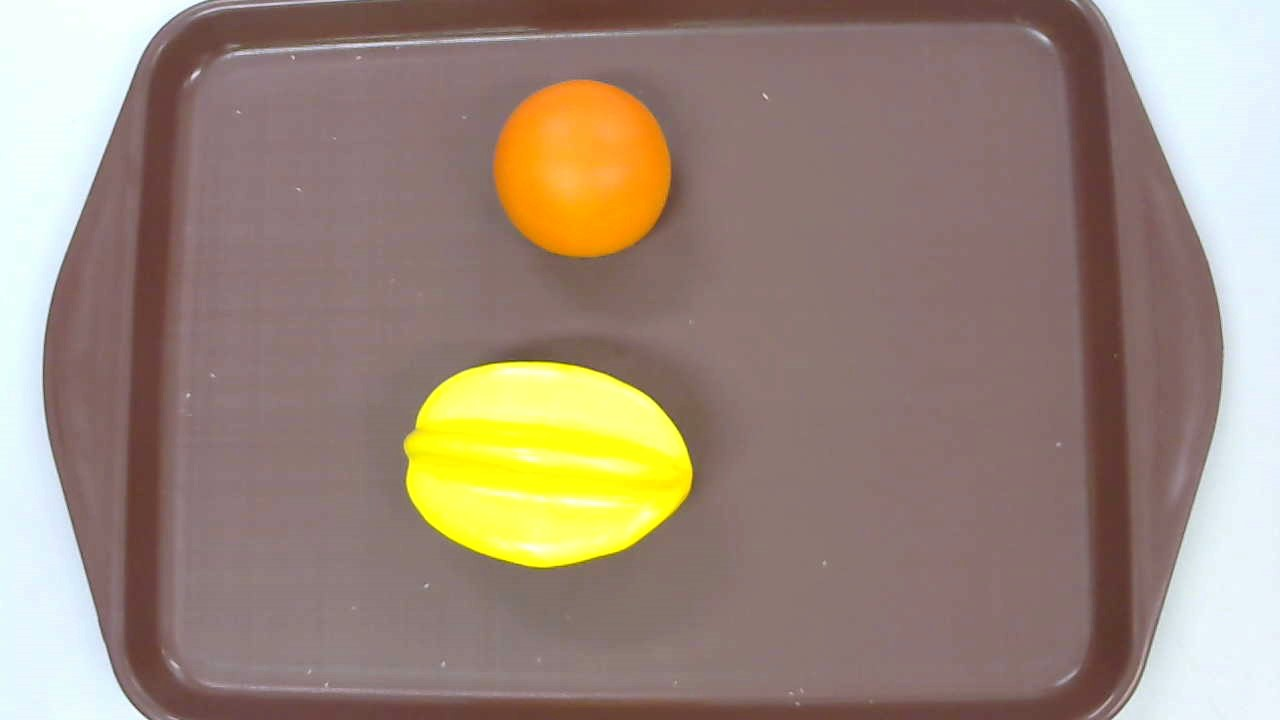bun: (493, 79, 672, 259)
star fruit: (403, 361, 694, 569)
